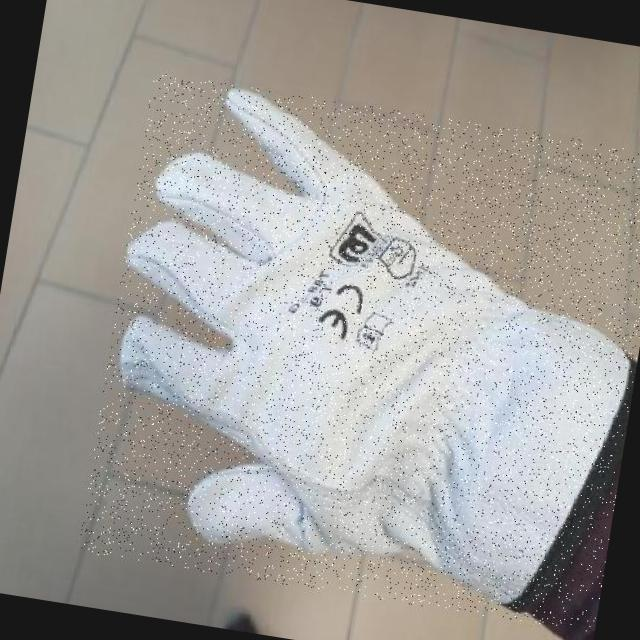gloves: (72, 69, 640, 636)
